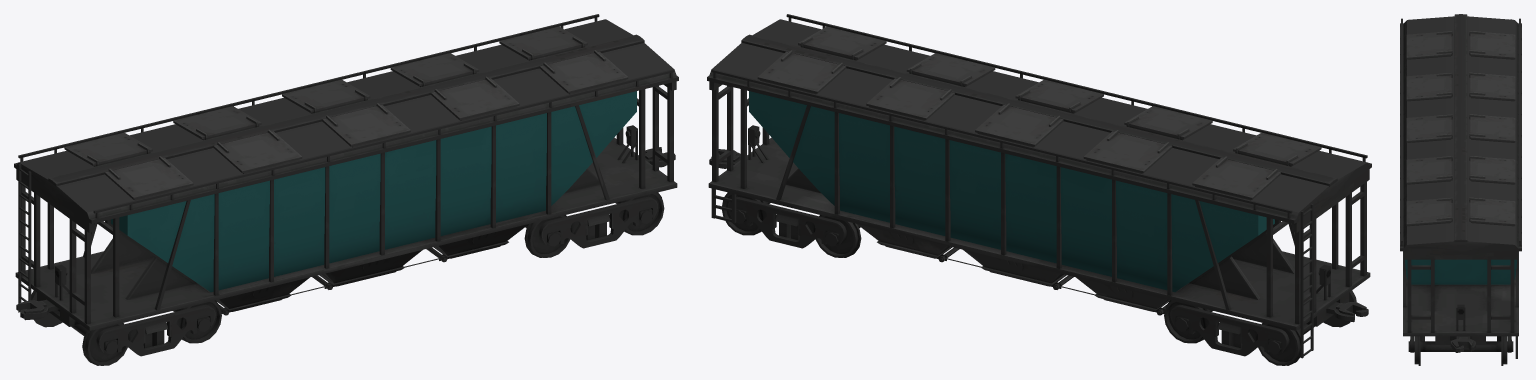
File: TrainCarriage02.FBX
3 views of the same model, side by side, from view 1: azimuth 30°, elevation 25°; view 2: azimuth 150°, elevation 25°; view 3: azimuth 270°, elevation 25° (orthographic). The views are drawn at different scales.
Visible parts, largest first — view 1: TrainCarriage02, TrainCarriage02Wheels; view 2: TrainCarriage02, TrainCarriage02Wheels; view 3: TrainCarriage02, TrainCarriage02Wheels.
Boxes of the visible parts, box(x1,y1,x2,y2) form: TrainCarriage02: box(14, 14, 678, 330); TrainCarriage02Wheels: box(31, 192, 664, 365); TrainCarriage02: box(707, 14, 1371, 358); TrainCarriage02Wheels: box(722, 192, 1356, 365); TrainCarriage02: box(1400, 14, 1521, 358); TrainCarriage02Wheels: box(1408, 336, 1513, 365).
Bounding box in the file's own units: 801 × 205 × 165.
